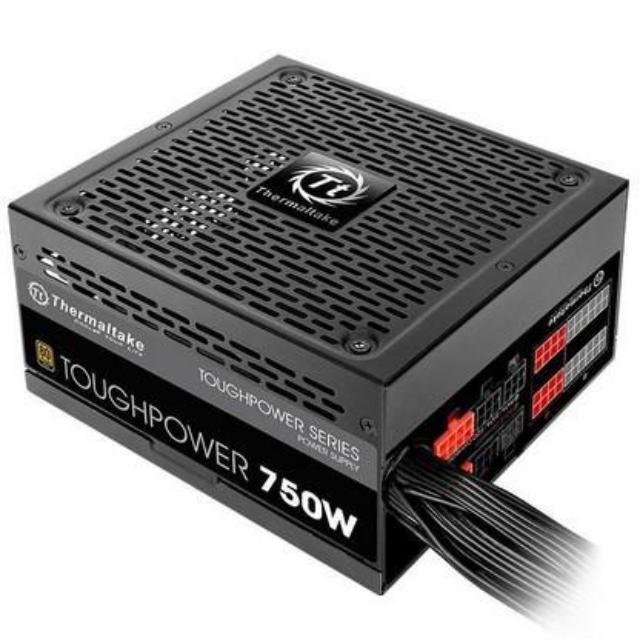PSU: (0, 44, 640, 618)
